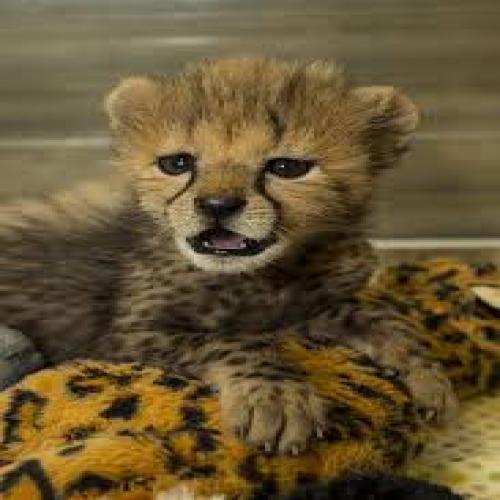cheetah-endangered: (0, 53, 465, 459)
